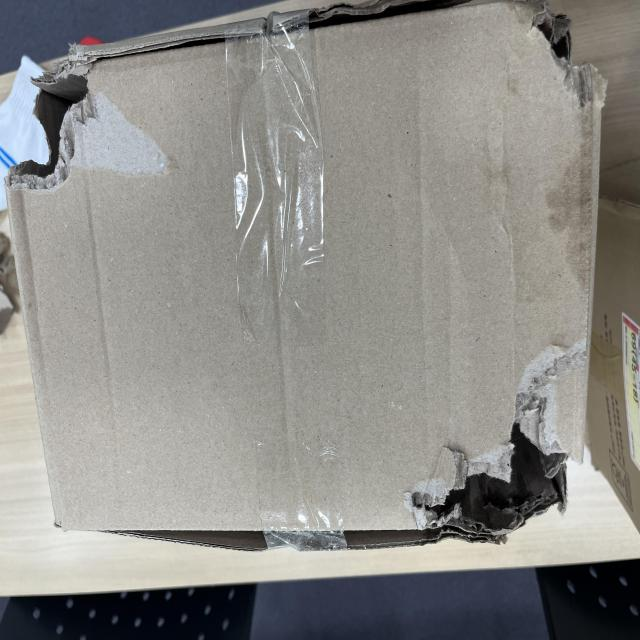damaged: (71, 546, 183, 640), (337, 40, 432, 138)
